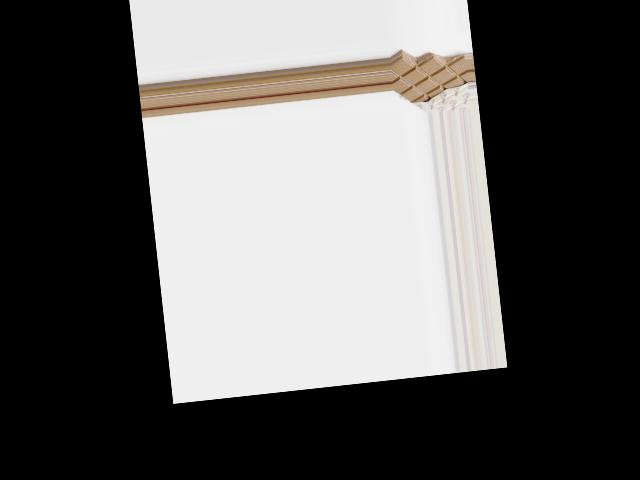chocolate: (390, 48, 471, 115)
